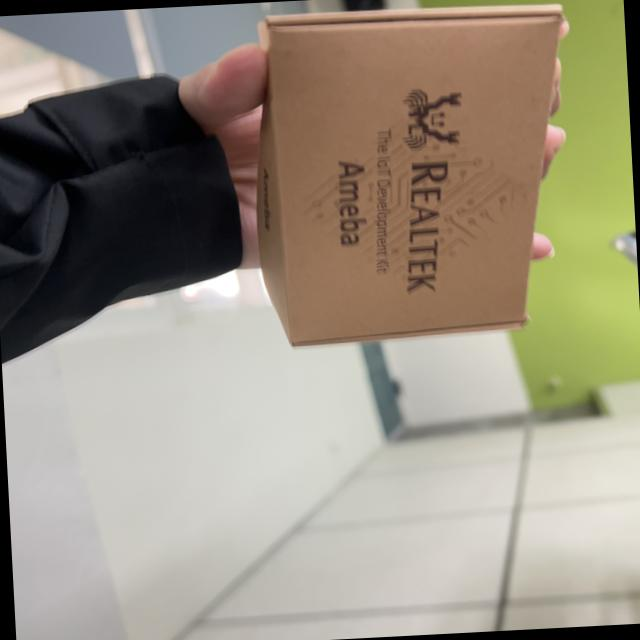box: (223, 0, 589, 373)
